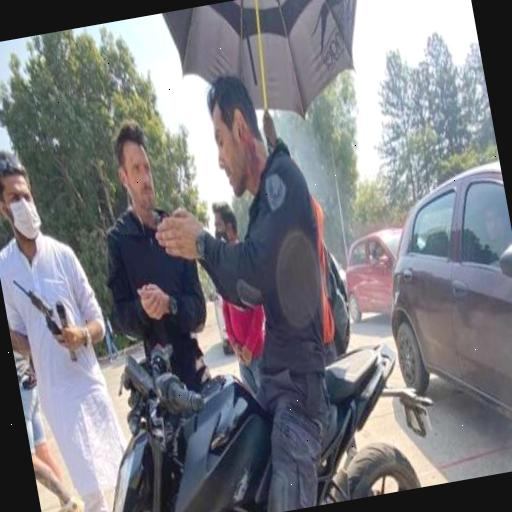no helmet: (178, 32, 374, 502)
